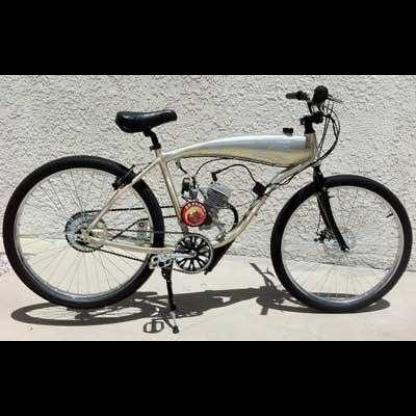Bicycle: (0, 76, 416, 330)
